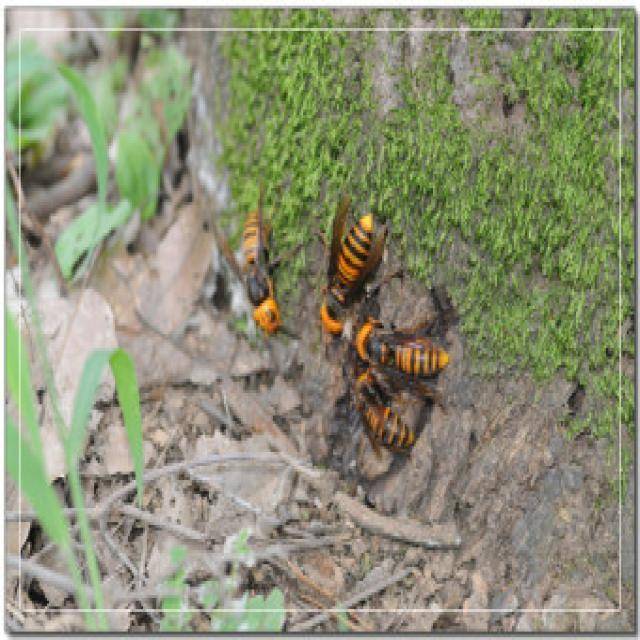Wasp: (313, 185, 387, 335), (230, 203, 288, 340), (352, 316, 462, 376), (338, 378, 422, 452)
